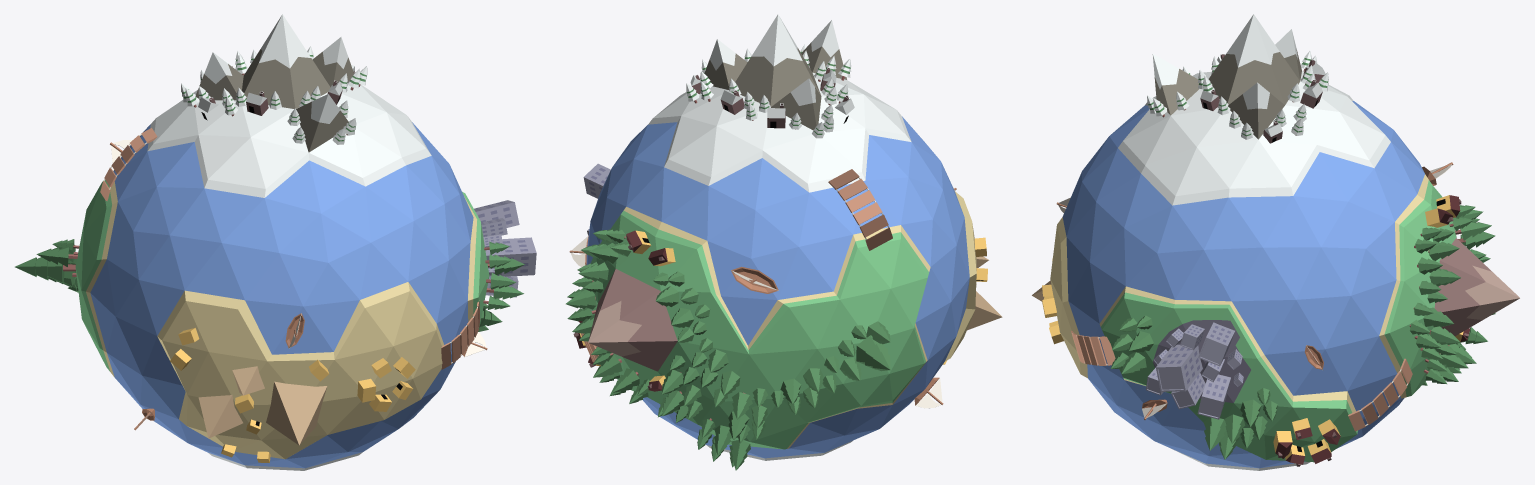
The model's file is planet6.glb.
3 views of the same model, side by side, from view 1: azimuth 30°, elevation 25°; view 2: azimuth 150°, elevation 25°; view 3: azimuth 270°, elevation 25° (orthographic). The views are drawn at different scales.
Visible parts, largest first — view 1: Planet_Water_0, Planet_Sand_0, Planet_Snow_0, Planet_MountainNorth_0, Planet_Grass_0, Cone_003_Pyramid_0, Cone_001_Pyramid_0, Building_Skyscraper_0, Cube_002_Bridge_0, Cube_Bridge_0, Cone_236_Tree_Leaves_0, Building_004_Skyscraper_0 (+1 smaller); view 2: Planet_Water_0, Planet_Grass_0, Planet_Snow_0, Planet_MountainNorth_0, Planet_Sand_0, Planet_MountainMid_0, Cube_Bridge_0, Planet_MountainMidTop_0, Cone_236_Tree_Leaves_0, Boat_001_Sail_Boat_Wood_0, Cone_001_Pyramid_0, Building_004_Skyscraper_0; view 3: Planet_Water_0, Planet_Snow_0, Planet_Grass_0, Planet_MountainNorth_0, Planet_Sand_0, Planet_MountainMid_0, Planet_Asphalt_0, Building_Skyscraper_0, Planet_MountainMidTop_0, Cube_001_Bridge_0, Cube_002_Bridge_0, Building_004_Skyscraper_0 (+3 smaller).
Part boxes in pixels (x1,y1,x2,y2): Planet_Water_0: [90, 122, 473, 468]; Planet_Sand_0: [86, 182, 477, 459]; Planet_Snow_0: [147, 14, 431, 470]; Planet_MountainNorth_0: [195, 49, 353, 152]; Planet_Grass_0: [75, 180, 489, 371]; Cone_003_Pyramid_0: [266, 381, 327, 445]; Cone_001_Pyramid_0: [198, 394, 242, 438]; Building_Skyscraper_0: [485, 237, 536, 276]; Cube_002_Bridge_0: [441, 300, 480, 369]; Cube_Bridge_0: [100, 128, 157, 201]; Cone_236_Tree_Leaves_0: [15, 257, 64, 283]; Building_004_Skyscraper_0: [474, 200, 519, 227]; Planet_Water_0: [586, 116, 969, 458]; Planet_Grass_0: [582, 210, 929, 449]; Planet_Snow_0: [648, 14, 911, 460]; Planet_MountainNorth_0: [704, 42, 846, 130]; Planet_Sand_0: [591, 191, 976, 448]; Planet_MountainMid_0: [593, 269, 677, 371]; Cube_Bridge_0: [828, 169, 892, 250]; Planet_MountainMidTop_0: [588, 301, 641, 356]; Cone_236_Tree_Leaves_0: [856, 335, 890, 371]; Boat_001_Sail_Boat_Wood_0: [731, 266, 778, 293]; Cone_001_Pyramid_0: [967, 291, 1002, 330]; Building_004_Skyscraper_0: [583, 163, 610, 198]; Planet_Water_0: [1062, 101, 1424, 468]; Planet_Snow_0: [1118, 14, 1390, 470]; Planet_Grass_0: [1101, 180, 1456, 462]; Planet_MountainNorth_0: [1154, 49, 1301, 139]; Planet_Sand_0: [1050, 174, 1428, 412]; Planet_MountainMid_0: [1434, 238, 1491, 335]; Planet_Asphalt_0: [1153, 320, 1250, 402]; Building_Skyscraper_0: [1156, 344, 1202, 391]; Planet_MountainMidTop_0: [1465, 265, 1519, 319]; Cube_001_Bridge_0: [1348, 358, 1412, 431]; Cube_002_Bridge_0: [1071, 330, 1115, 365]; Building_004_Skyscraper_0: [1198, 322, 1235, 366].
Bounding box in the file's own units: 2.36 × 2.45 × 2.46.
